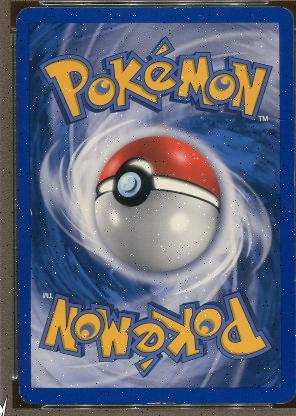Card: (14, 6, 294, 408)
Corner Wear: (18, 384, 36, 404), (15, 6, 34, 23), (271, 394, 293, 404)
Edge Wear: (142, 402, 174, 404), (172, 5, 190, 8), (291, 272, 293, 298), (292, 163, 293, 197)
Scratch: (26, 206, 34, 216), (196, 14, 207, 20), (249, 13, 254, 21)
